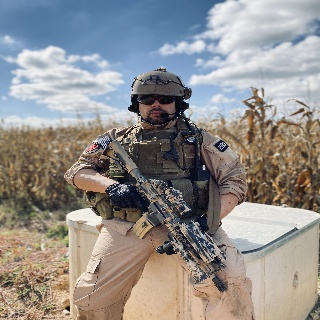rifle: (104, 139, 230, 295)
